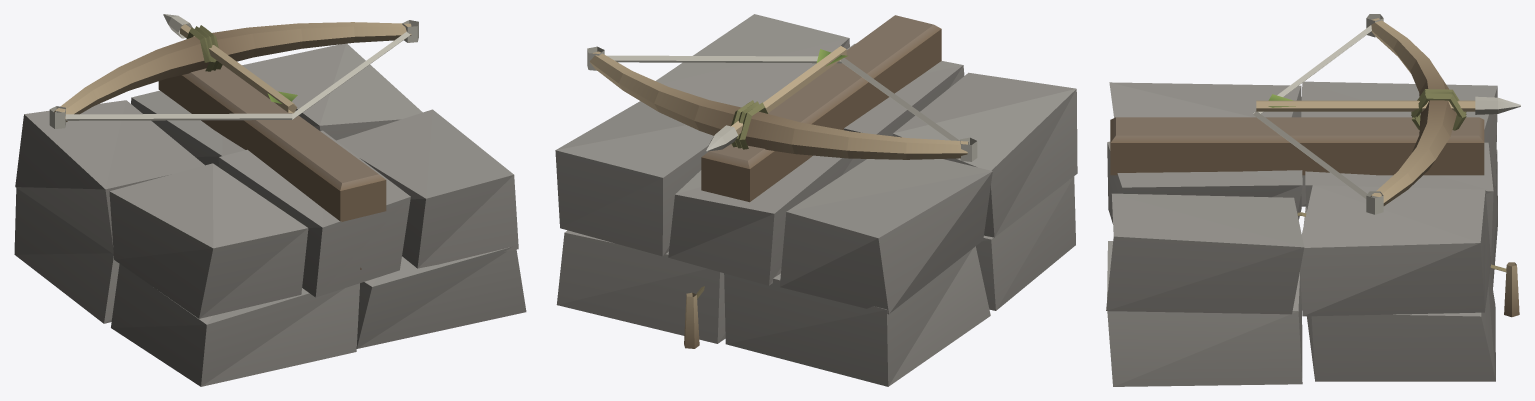
The model's file is set_crossbow_a.glb.
3 views of the same model, side by side, from view 1: azimuth 30°, elevation 25°; view 2: azimuth 150°, elevation 25°; view 3: azimuth 270°, elevation 25° (orthographic). The views are drawn at different scales.
Parts seen in each view (by area): view 1: Base, Bow, String, Bolt; view 2: Base, Bow, String, Bolt; view 3: Base, Bow, Bolt, String.
Part boxes in pixels (x1,y1,x2,y2): Base: [14, 43, 526, 386]; Bow: [49, 20, 418, 128]; String: [65, 31, 410, 120]; Bolt: [163, 14, 297, 113]; Base: [555, 14, 1077, 386]; Bow: [587, 46, 977, 161]; String: [607, 55, 959, 140]; Bolt: [706, 46, 847, 151]; Base: [1106, 81, 1519, 386]; Bow: [1366, 14, 1466, 214]; Bolt: [1256, 94, 1520, 114]; String: [1253, 25, 1371, 198].
Bounding box in the file's own units: 0.9562 × 0.5128 × 0.9095.
